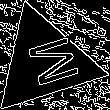M_W: (13, 32, 76, 91)
